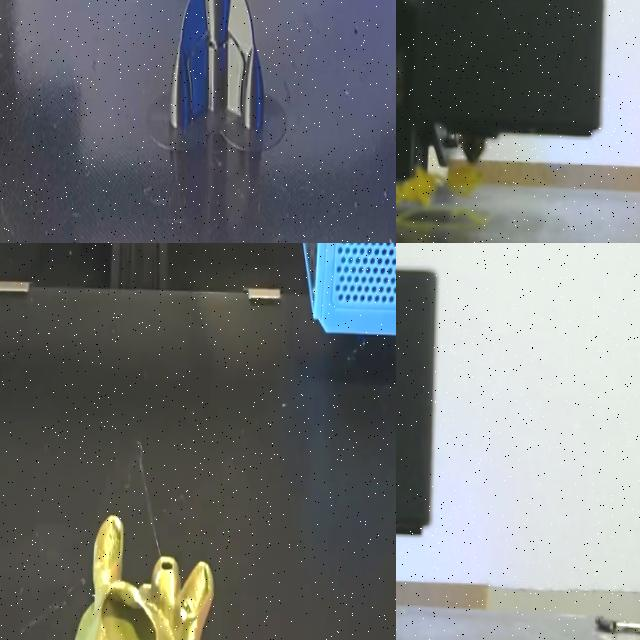spaghetti: (396, 167, 442, 205), (445, 163, 481, 195)
